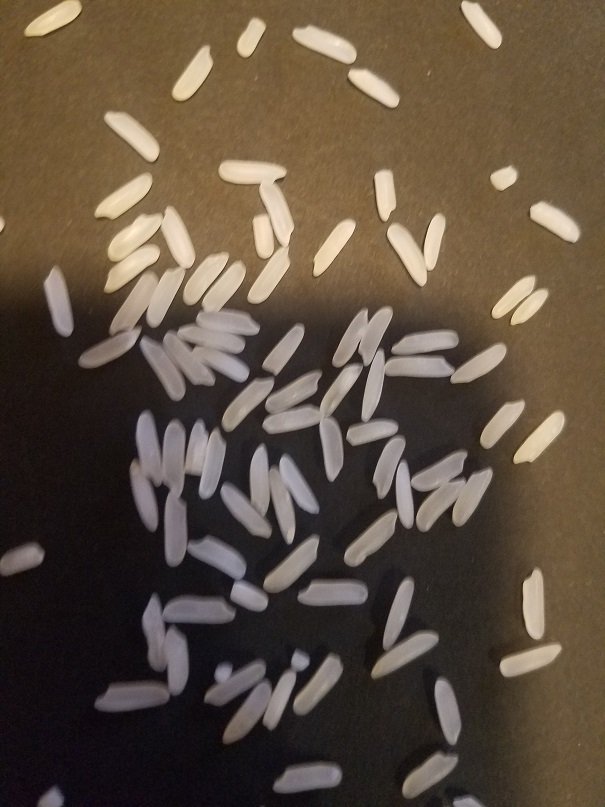egg: (262, 535, 321, 597), (369, 629, 439, 681), (221, 683, 273, 750), (291, 653, 343, 718), (108, 271, 158, 338), (345, 509, 398, 569), (201, 663, 266, 711), (221, 377, 274, 435), (513, 409, 565, 468), (139, 336, 186, 401), (401, 751, 459, 803), (246, 245, 295, 306), (309, 216, 357, 278), (219, 483, 273, 538), (103, 244, 161, 295), (384, 221, 429, 286), (162, 330, 214, 386), (78, 327, 144, 371), (106, 211, 164, 261), (415, 479, 466, 535), (181, 249, 231, 306), (189, 533, 248, 581), (291, 22, 358, 64), (380, 577, 417, 653), (169, 43, 214, 104), (144, 264, 186, 329), (264, 369, 323, 415), (368, 436, 409, 500), (410, 450, 469, 494), (257, 180, 296, 246), (201, 260, 246, 317), (528, 198, 580, 246), (479, 399, 527, 451), (356, 305, 396, 367), (331, 306, 371, 368), (452, 469, 494, 528), (279, 455, 321, 514), (451, 343, 507, 386), (21, 1, 84, 39), (43, 263, 74, 340), (498, 642, 562, 679), (319, 364, 362, 419), (460, 1, 504, 54), (128, 460, 159, 534), (261, 323, 304, 376), (348, 65, 399, 109), (92, 682, 169, 711), (268, 468, 297, 545), (139, 593, 167, 672), (161, 205, 196, 268), (262, 671, 297, 733), (162, 594, 236, 623), (193, 345, 251, 382), (431, 678, 462, 747), (273, 761, 343, 791), (491, 276, 537, 321), (161, 420, 187, 499), (198, 426, 226, 499), (361, 348, 388, 423), (136, 410, 162, 487), (176, 325, 248, 352), (164, 491, 189, 568), (215, 159, 289, 185), (296, 579, 367, 606), (521, 564, 545, 642), (262, 406, 323, 436), (164, 626, 188, 700), (389, 330, 459, 355), (1, 541, 46, 579), (384, 355, 455, 378), (421, 213, 448, 273), (345, 419, 399, 449), (319, 417, 343, 483), (509, 288, 549, 327), (194, 310, 261, 333), (396, 460, 416, 533), (234, 17, 267, 61), (250, 442, 269, 516), (230, 579, 268, 615), (93, 194, 143, 221), (373, 169, 398, 222), (184, 420, 204, 475), (252, 214, 276, 259), (489, 163, 518, 192), (37, 783, 68, 807), (131, 142, 165, 163), (452, 793, 488, 807), (212, 664, 231, 684)
